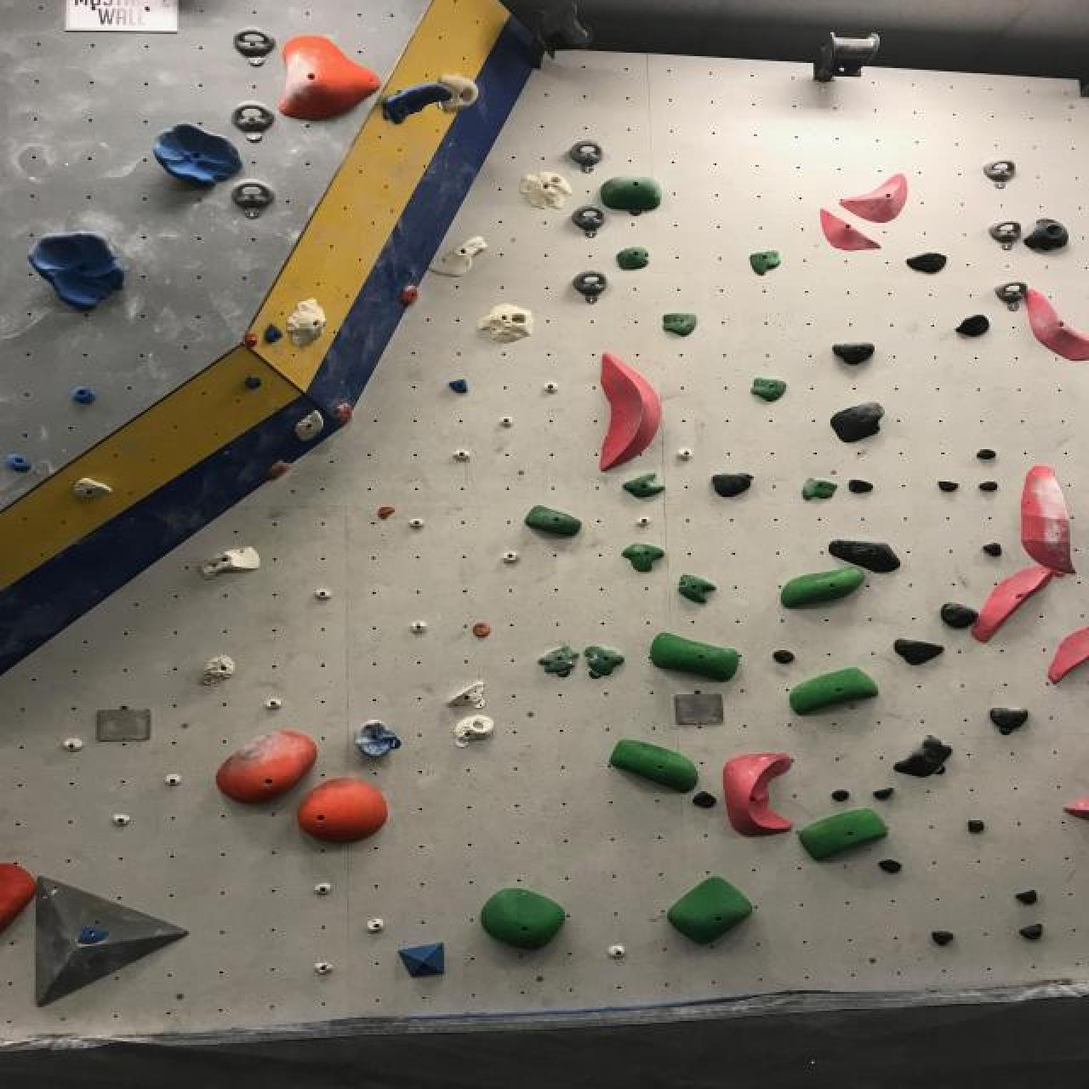hold: (277, 36, 379, 121), (28, 231, 123, 311), (599, 353, 662, 471), (217, 731, 317, 804), (971, 564, 1054, 642), (298, 778, 388, 843), (667, 876, 753, 944), (152, 125, 242, 189), (1020, 465, 1073, 573), (723, 755, 790, 835), (480, 888, 566, 950), (1023, 286, 1088, 361), (798, 808, 887, 861), (648, 633, 741, 681), (790, 667, 878, 715), (780, 567, 865, 607), (840, 174, 907, 223), (820, 208, 880, 251), (0, 863, 36, 933), (893, 736, 952, 778), (829, 539, 899, 573), (599, 178, 660, 215), (1048, 627, 1088, 682), (434, 236, 487, 277), (830, 402, 883, 442), (479, 304, 532, 343), (384, 83, 436, 122), (519, 171, 572, 209), (200, 546, 260, 578), (525, 505, 582, 538), (355, 721, 401, 761), (287, 299, 326, 346), (232, 102, 274, 141), (398, 942, 444, 977), (232, 180, 274, 217), (1024, 219, 1068, 252), (234, 28, 277, 60), (453, 714, 493, 746), (895, 639, 944, 665), (584, 647, 624, 678), (538, 647, 578, 677), (622, 544, 664, 572), (623, 471, 664, 499), (441, 75, 478, 106), (567, 140, 602, 172), (678, 574, 716, 603), (989, 708, 1029, 735), (711, 473, 754, 498), (448, 680, 485, 708), (573, 271, 607, 301), (200, 655, 235, 684), (941, 602, 978, 629), (832, 343, 875, 366), (294, 409, 323, 442), (572, 205, 604, 234), (750, 377, 786, 402), (662, 312, 697, 337), (989, 221, 1020, 248), (73, 477, 112, 498), (907, 253, 946, 274), (955, 314, 989, 338), (995, 282, 1026, 308), (801, 478, 837, 500), (750, 250, 781, 275), (616, 247, 648, 270), (984, 160, 1015, 183), (77, 926, 109, 946), (1064, 797, 1088, 820), (6, 453, 31, 472), (334, 402, 353, 426), (268, 461, 291, 479), (1020, 923, 1042, 941), (72, 388, 95, 405), (693, 791, 716, 808), (878, 859, 902, 874), (401, 285, 418, 306), (60, 737, 83, 752), (263, 324, 281, 343), (470, 622, 490, 639), (773, 649, 795, 664), (1015, 889, 1037, 904), (848, 480, 873, 493), (932, 931, 953, 946), (448, 379, 468, 394), (375, 505, 395, 520), (313, 587, 333, 602), (500, 550, 520, 565), (314, 961, 334, 976), (607, 944, 625, 960), (451, 448, 470, 463), (873, 787, 893, 801), (982, 543, 1001, 557), (313, 882, 332, 896), (409, 621, 427, 635), (164, 773, 182, 787), (111, 814, 130, 827), (938, 481, 958, 493), (265, 696, 282, 710), (967, 820, 984, 834), (976, 448, 995, 460), (244, 376, 261, 389), (244, 333, 257, 349), (368, 919, 384, 932), (831, 790, 849, 801), (543, 381, 558, 394), (498, 416, 513, 429), (676, 448, 691, 461), (980, 481, 997, 491), (409, 519, 423, 529), (637, 517, 649, 527)
volume: (39, 877, 195, 1010)
